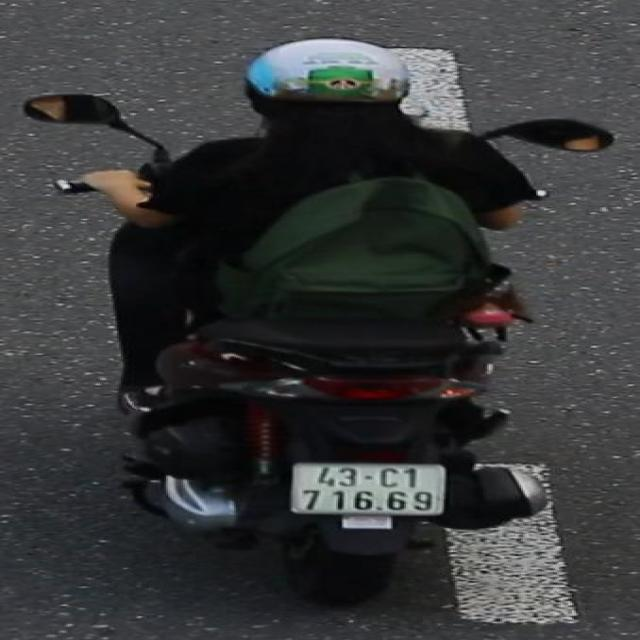LP: (282, 456, 450, 520)
helmet: (239, 33, 426, 149)
